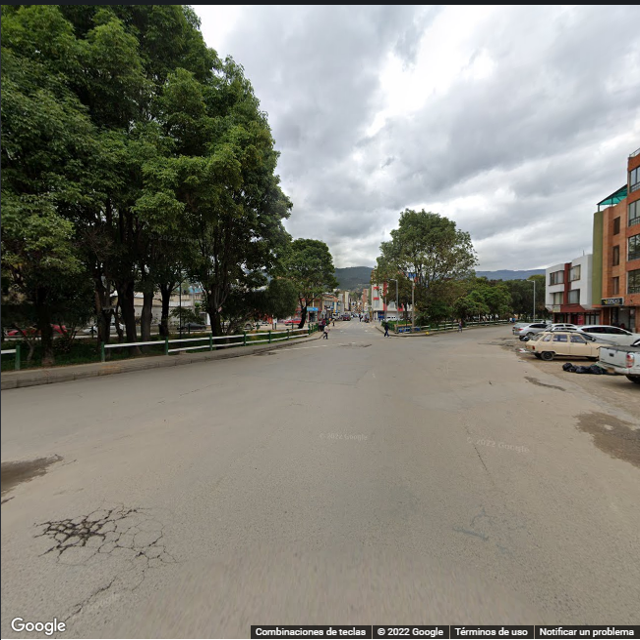D00: (62, 572, 121, 622), (154, 515, 165, 544), (135, 561, 148, 585)
D20: (41, 498, 140, 555)
